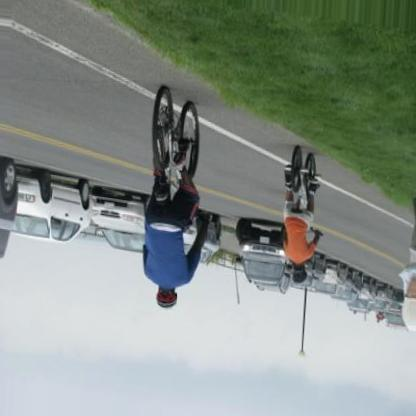with helmet: (155, 287, 179, 313)
